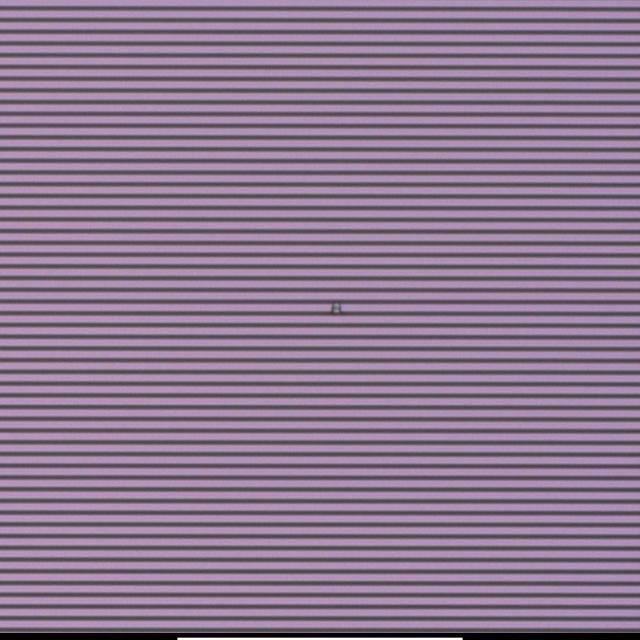03_intrusion: (330, 300, 344, 316)
